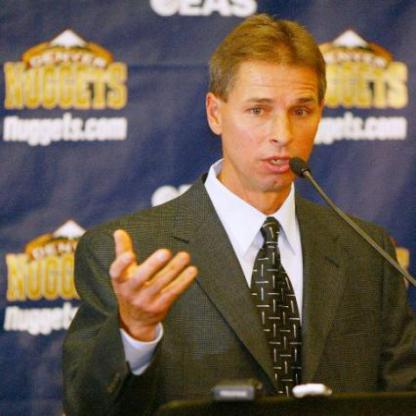face: (223, 28, 323, 194)
